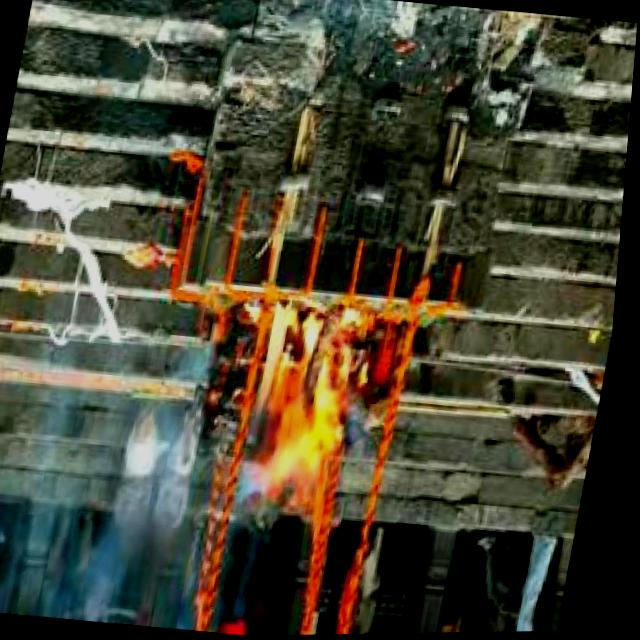Fire: (240, 305, 369, 504)
